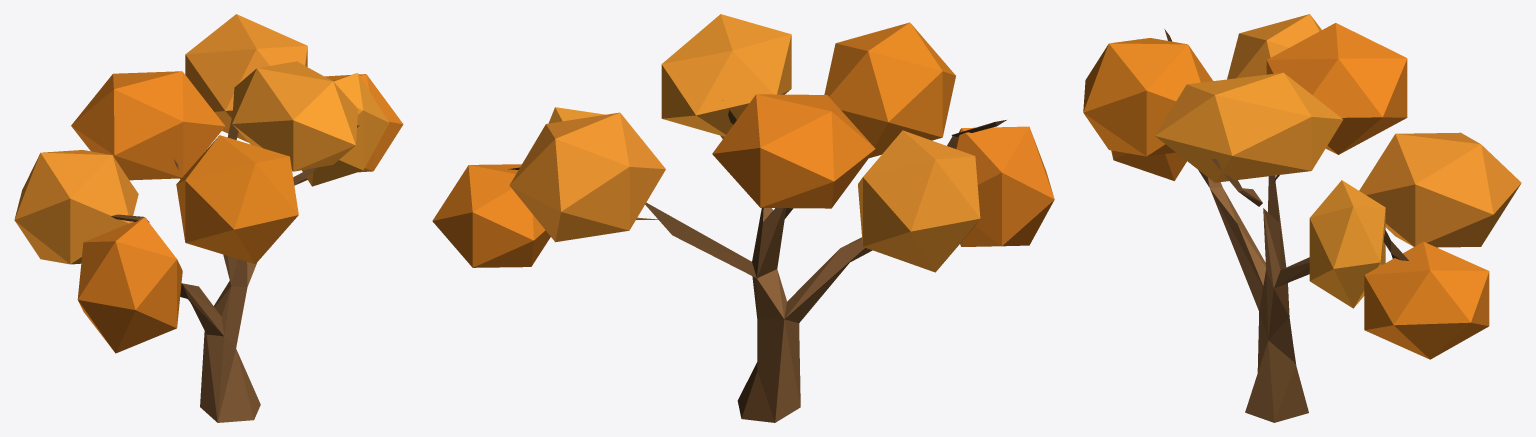
File: guayacan_2_autumn_far.glb
3 views of the same model, side by side, from view 1: azimuth 30°, elevation 25°; view 2: azimuth 150°, elevation 25°; view 3: azimuth 270°, elevation 25° (orthographic). The views are drawn at different scales.
Parts seen in each view (by area): view 1: guayacan_2_autumn_far; view 2: guayacan_2_autumn_far; view 3: guayacan_2_autumn_far.
Boxes of the visible parts, left/top/right/bottom form: guayacan_2_autumn_far: left=14, top=14, right=403, bottom=422; guayacan_2_autumn_far: left=432, top=14, right=1054, bottom=422; guayacan_2_autumn_far: left=1083, top=14, right=1521, bottom=422.
Size of the model in its own units: 8.52 by 6.16 by 6.98.
